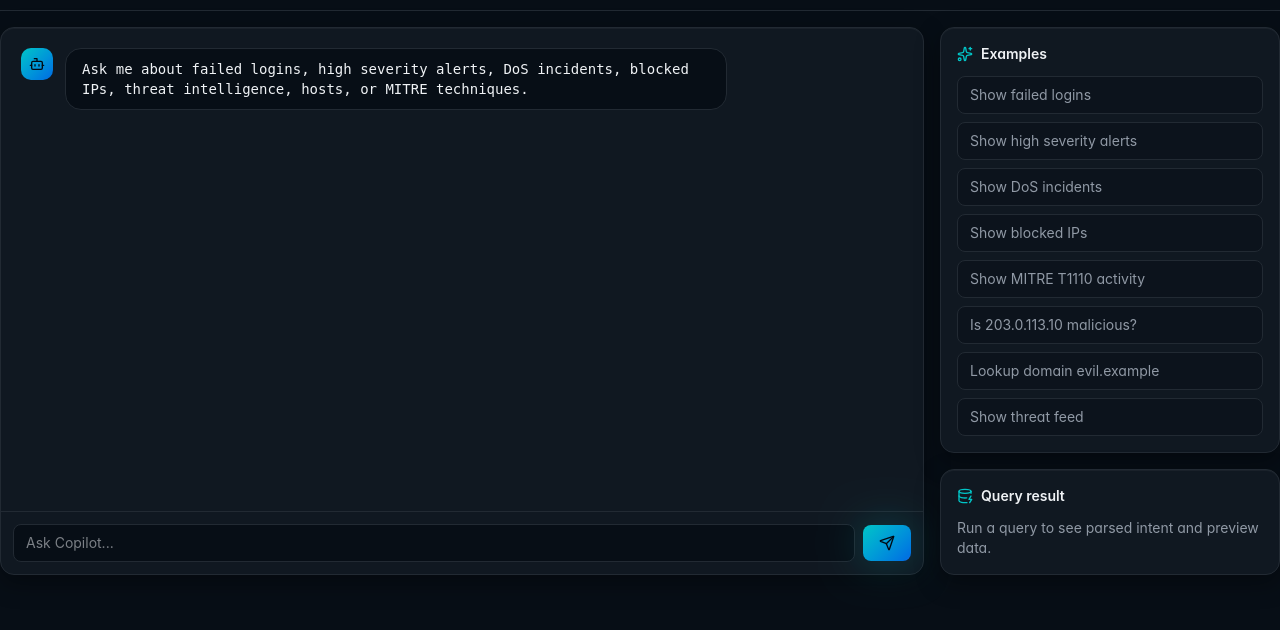
Test: CopilotPage › renders threat lookup query results
Step 1. Type "is 203.0.113.10 malicious?" into the field with placeholder "Ask Copilot..." → coordinates (434, 543), box x1=13 y1=524 x2=855 y2=562
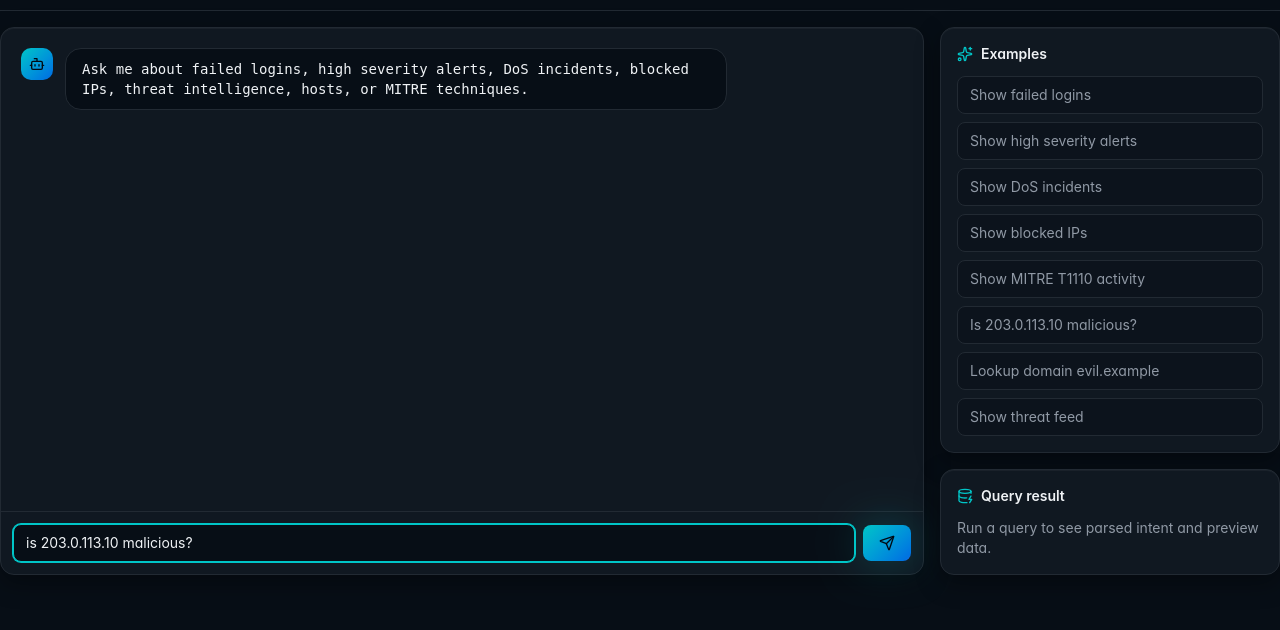
Step 2. Press Enter
(page scrolled)
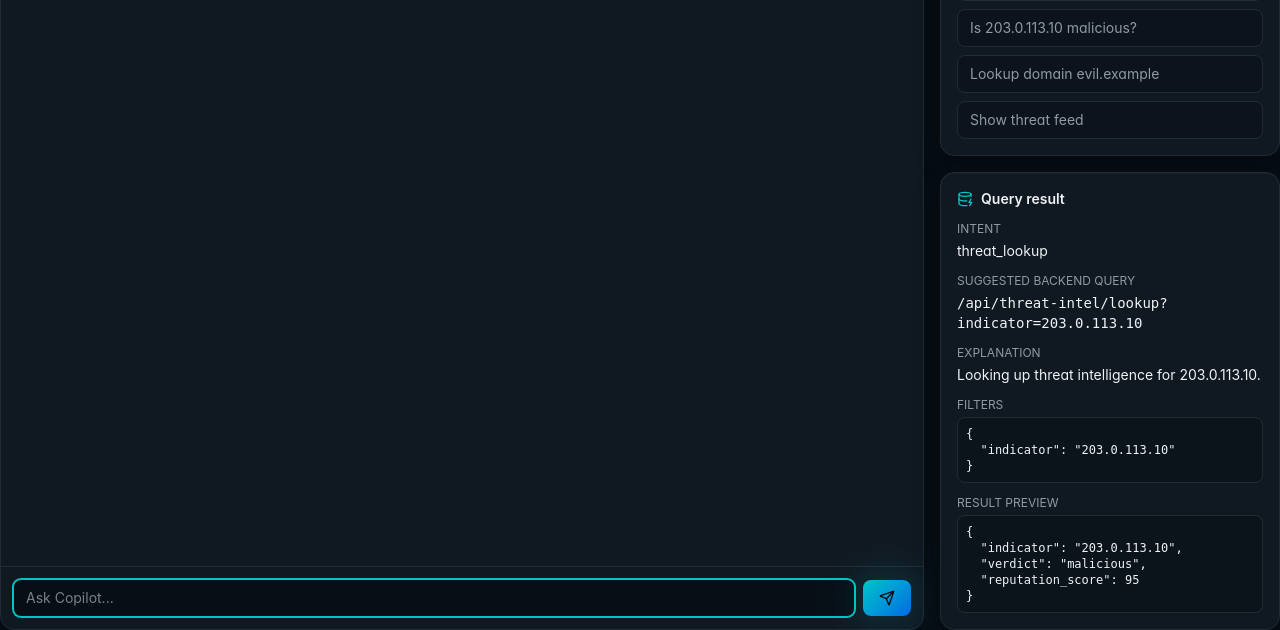
Expected: the text "threat_lookup" is shown, x1=957 y1=242 x2=1048 y2=259
Expected: the text "/api/threat-intel/lookup?indicator=203.0.113.10" is shown, x1=957 y1=295 x2=1168 y2=331
Expected: the text "\"verdict\": \"malicious\"" is shown, x1=966 y1=525 x2=1183 y2=603
